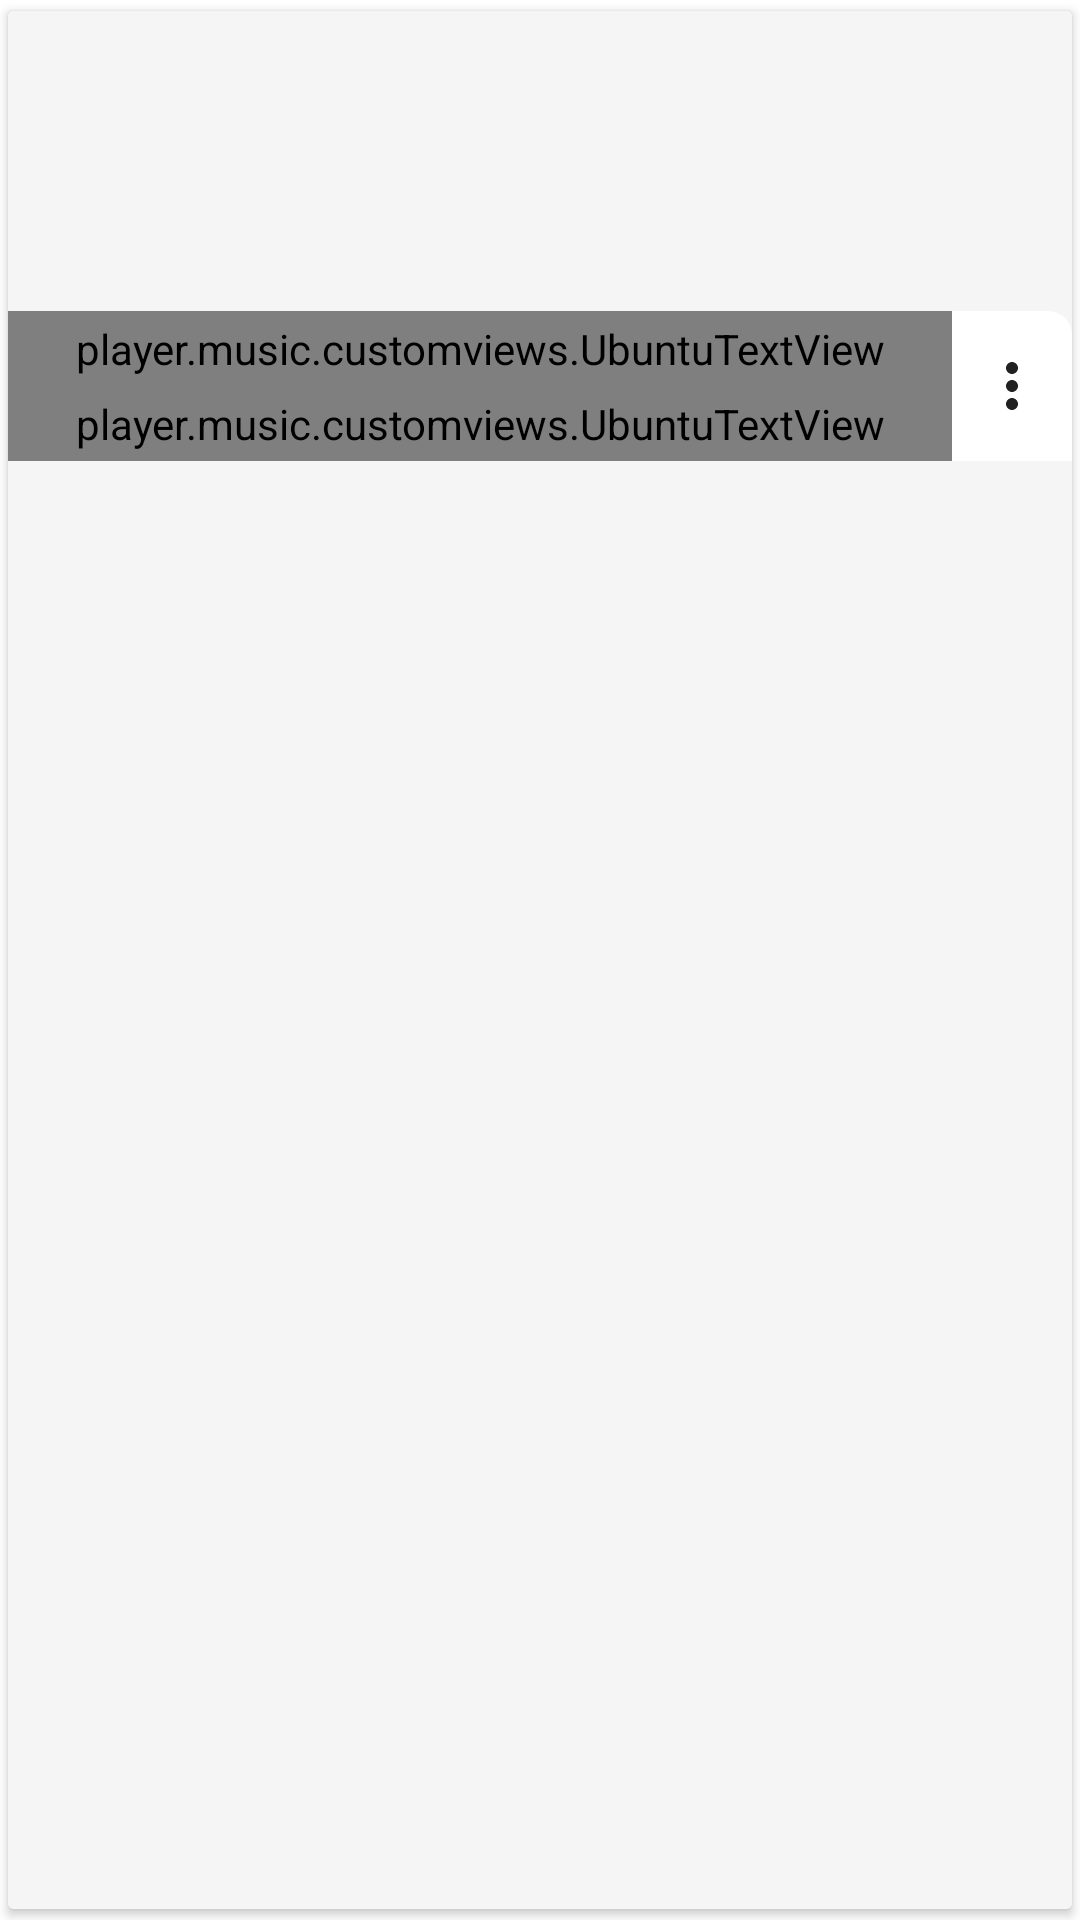

Named icons in this screenshot (1080x1920) and their centers, (x,y):
Overflow Button: (1012,386)
